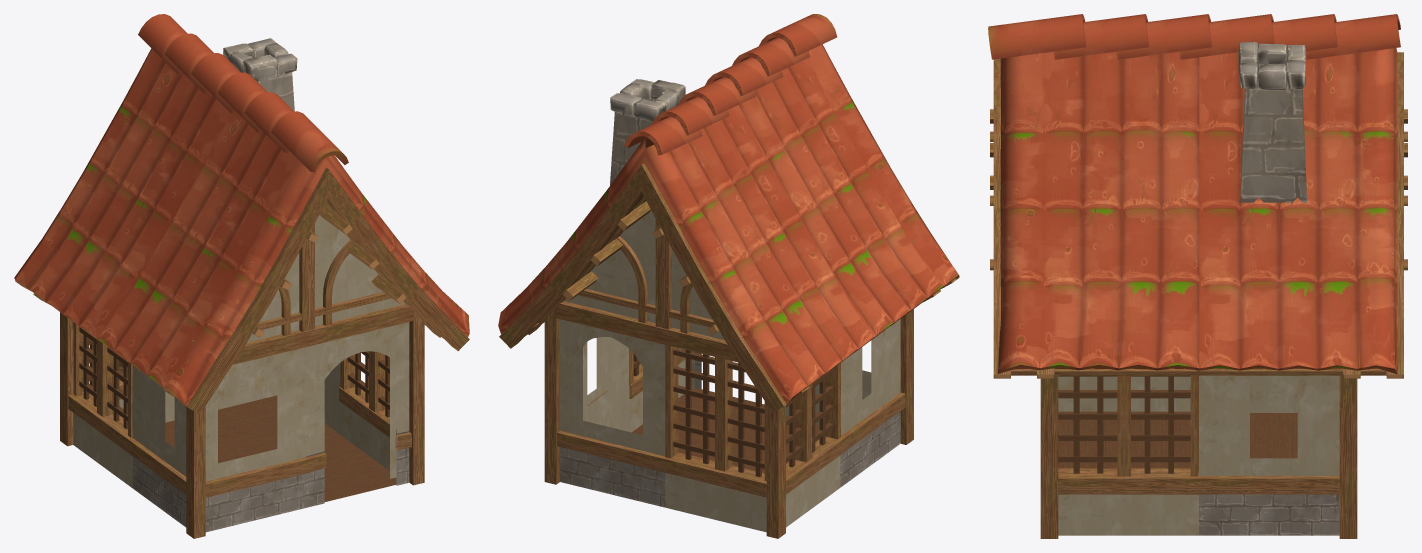
Rendered from med-cottage-v3.glb.
3 views of the same model, side by side, from view 1: azimuth 30°, elevation 25°; view 2: azimuth 150°, elevation 25°; view 3: azimuth 270°, elevation 25° (orthographic). The views are drawn at different scales.
Parts seen in each view (by area): view 1: med-cottage-v3; view 2: med-cottage-v3; view 3: med-cottage-v3.
Part boxes in pixels (<box>): med-cottage-v3: <box>14,14,469,538</box>; med-cottage-v3: <box>498,14,959,538</box>; med-cottage-v3: <box>988,14,1407,538</box>.
Size of the model in its own units: 5.51 by 6.73 by 5.62.
Materials: 5 (5 with a texture image).
